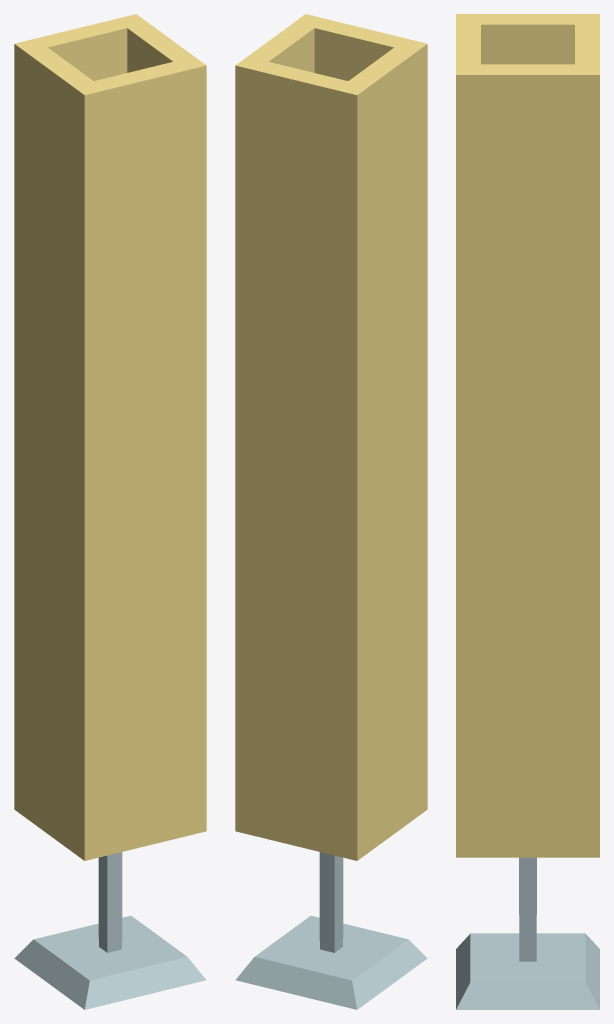
Rendered from lampSquareFloor.obj.
3 views of the same model, side by side, from view 1: azimuth 30°, elevation 25°; view 2: azimuth 150°, elevation 25°; view 3: azimuth 270°, elevation 25° (orthographic). The views are drawn at different scales.
Visible parts, largest first — view 1: lampSquareFloor; view 2: lampSquareFloor; view 3: lampSquareFloor.
Part boxes in pixels (left/top/right/bottom): lampSquareFloor: left=14, top=14, right=206, bottom=1009; lampSquareFloor: left=235, top=14, right=427, bottom=1009; lampSquareFloor: left=456, top=14, right=599, bottom=1009.
Bounding box in the file's own units: 0.12 × 0.86 × 0.12.
